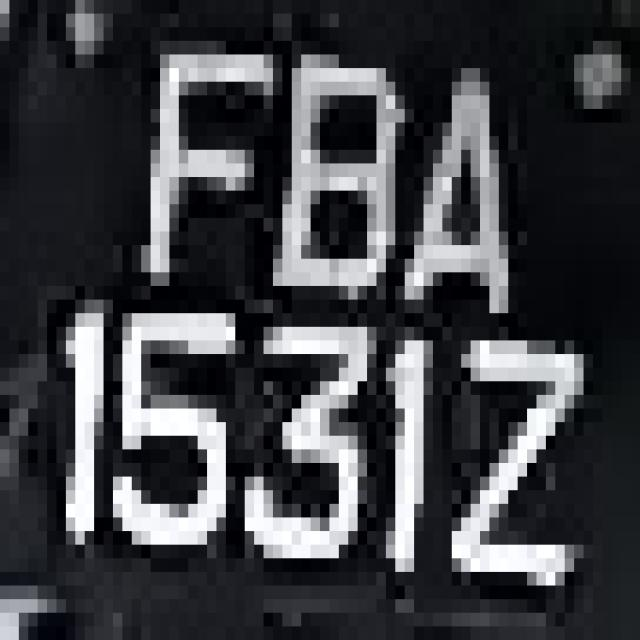1: (367, 272, 442, 599), (47, 232, 122, 558)
3: (216, 272, 386, 545)
5: (103, 286, 244, 599)
A: (395, 41, 527, 354)
B: (273, 41, 414, 313)
F: (122, 27, 273, 286)
Z: (442, 286, 602, 626)
